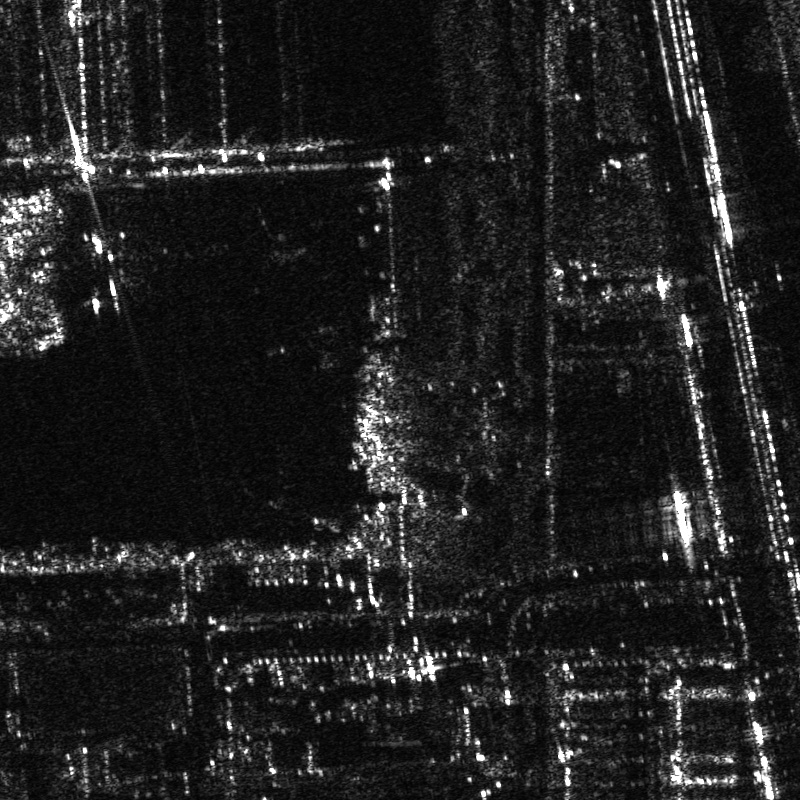Boeing737: (73, 226, 151, 317)
other: (208, 206, 312, 295)
